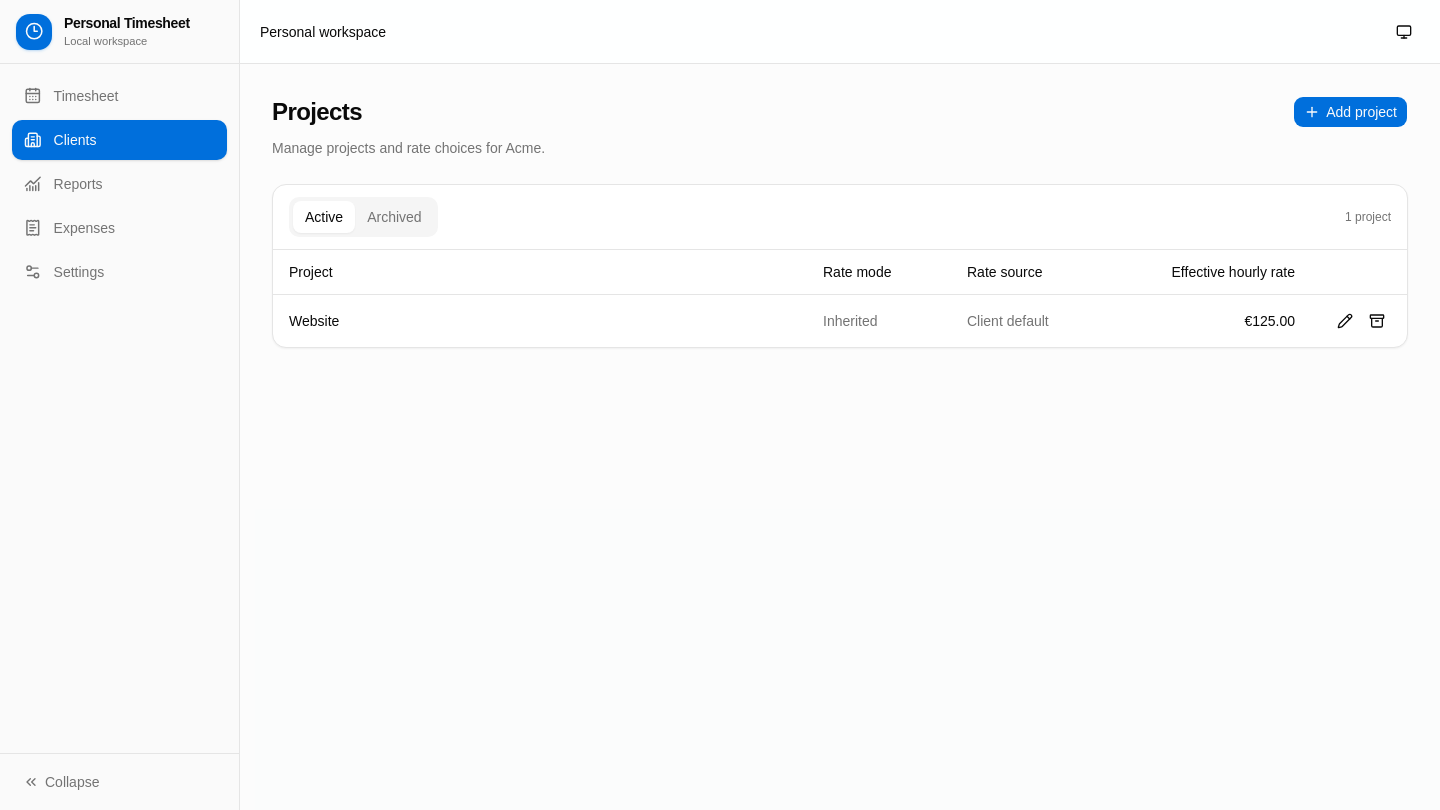
application shell › injects lifecycle archive planning into the Project screen
The width and height of the screenshot is (1440, 810).
Expected: the link "Website" is shown, left=289, top=312, right=339, bottom=328
Click the button named "Archive Website" at (1377, 320), box left=1363, top=306, right=1391, bottom=334
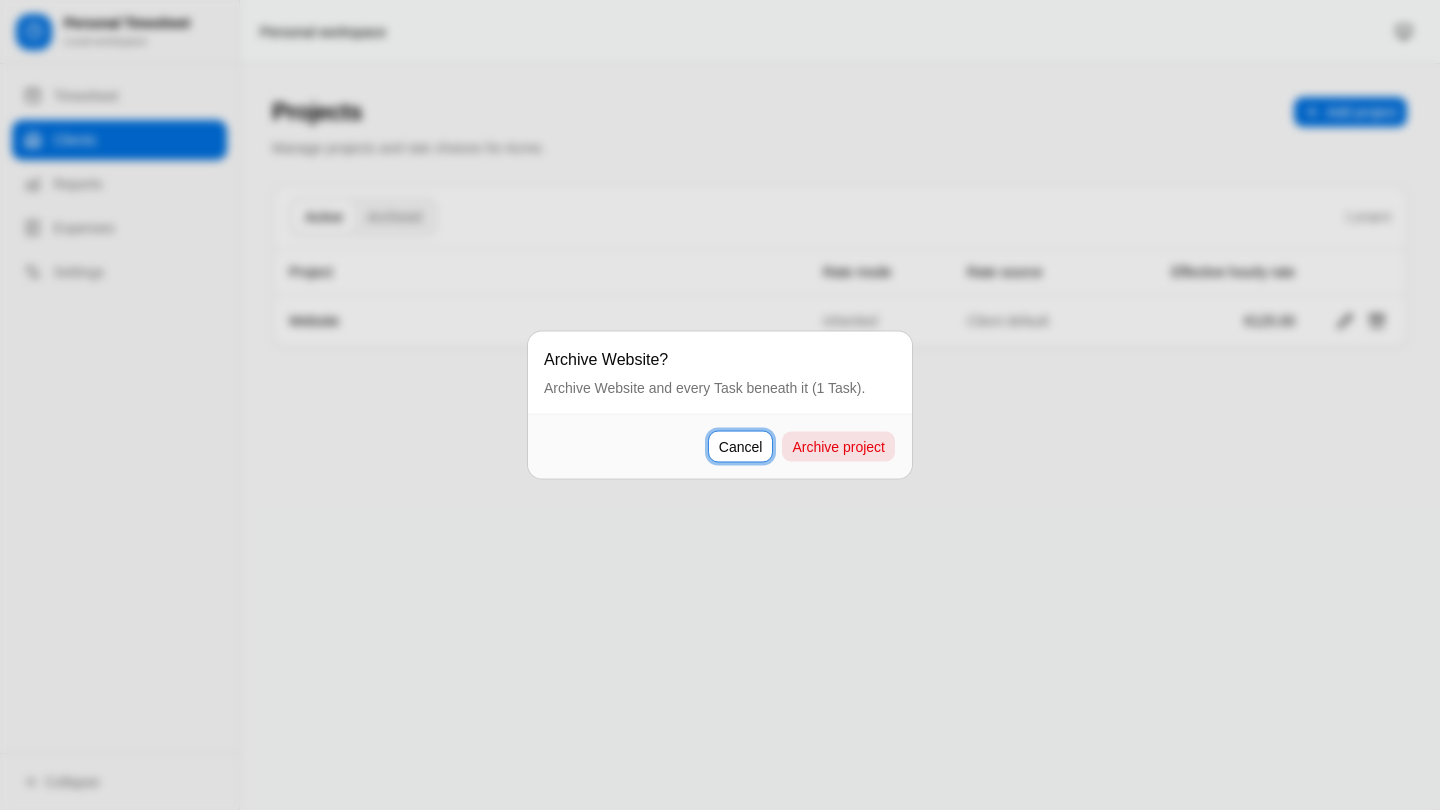
Expected: the dialog shows "Archive Website and every Task beneath it (1 Task).", left=544, top=380, right=865, bottom=396
